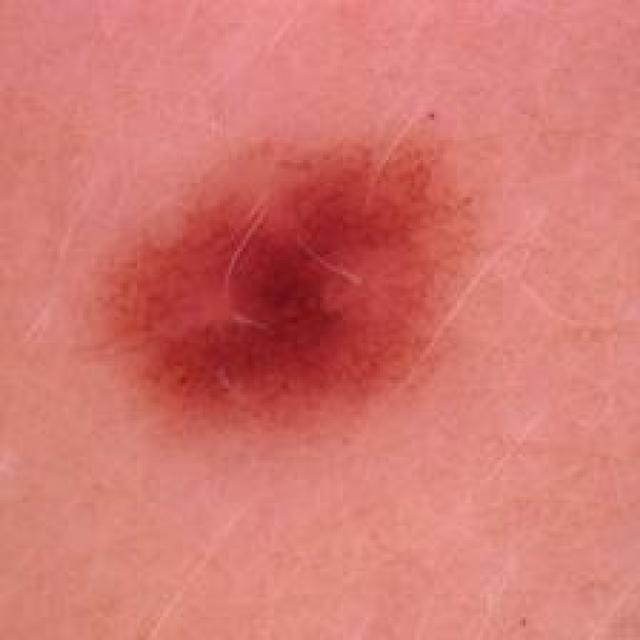Cancer: (65, 132, 470, 440)
